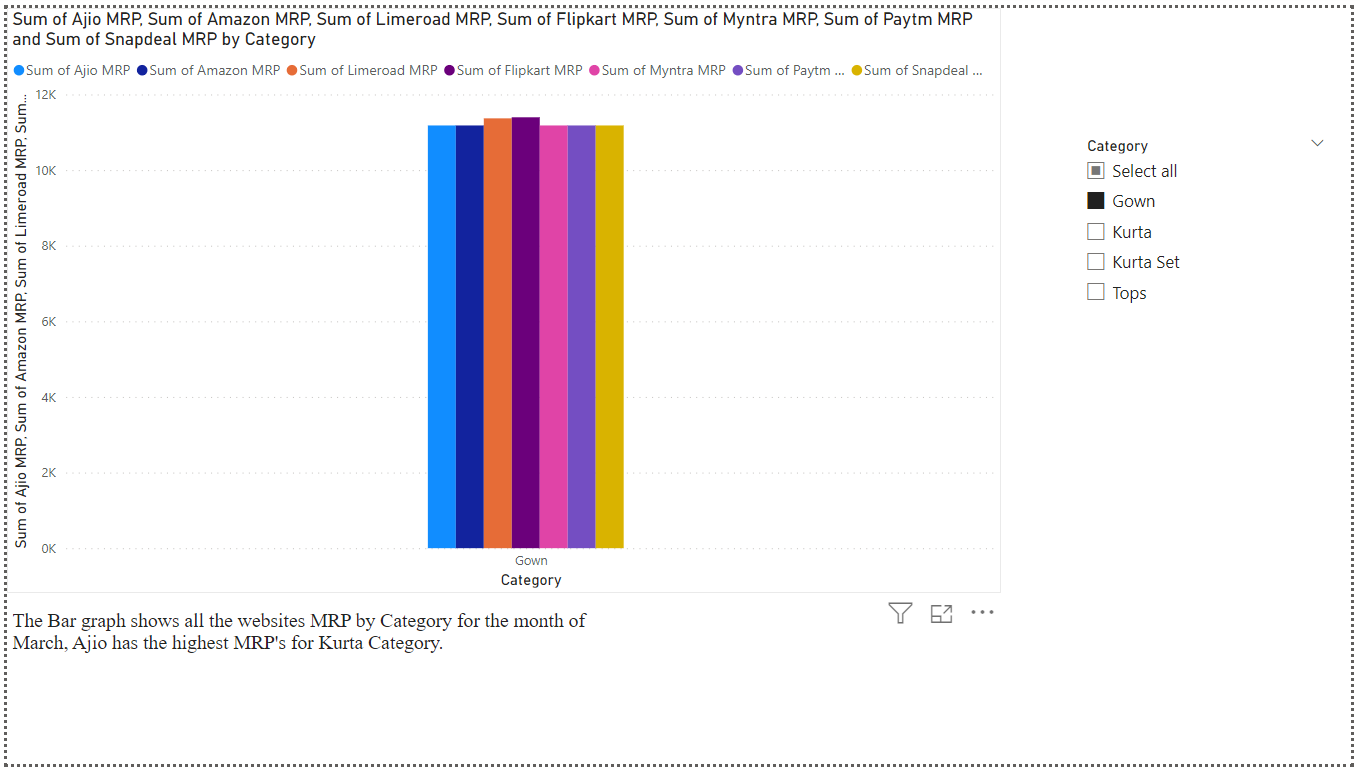

The dashboard page shown, as its layout file describes it:
{"tool":"powerbi","page":{"name":"M.MarchMRPdiffbycateogry","canvas":[1280,720],"ordinal":12},"visuals":[{"type":"clusteredColumnChart","fields":{"Y":["Sum(March.Ajio MRP)","Sum(March.Amazon MRP)","Sum(March.Limeroad MRP)","Sum(March.Flipkart MRP)","Sum(March.Myntra MRP)","Sum(March.Paytm MRP)","Sum(March.Snapdeal MRP)"],"Category":["March.Category"]},"box":[0,0,946.8,557.1],"z":0},{"type":"slicer","fields":{"Values":["March.Category"]},"box":[1015.4,116.6,251.1,229.2],"z":1},{"type":"textbox","box":[0,567.1,571.4,122.9],"z":2}]}

Visuals, with their boxes in screenshot pixels (x1, y1, x2, y2), scaled from the page's 1280x720 canvas onto the 1360x769 screenshot:
clusteredColumnChart - Sum(March.Ajio MRP) x Sum(March.Amazon MRP): <box>0,0,1006,595</box>
slicer - March.Category: <box>1079,125,1346,369</box>
textbox: <box>0,606,607,737</box>
